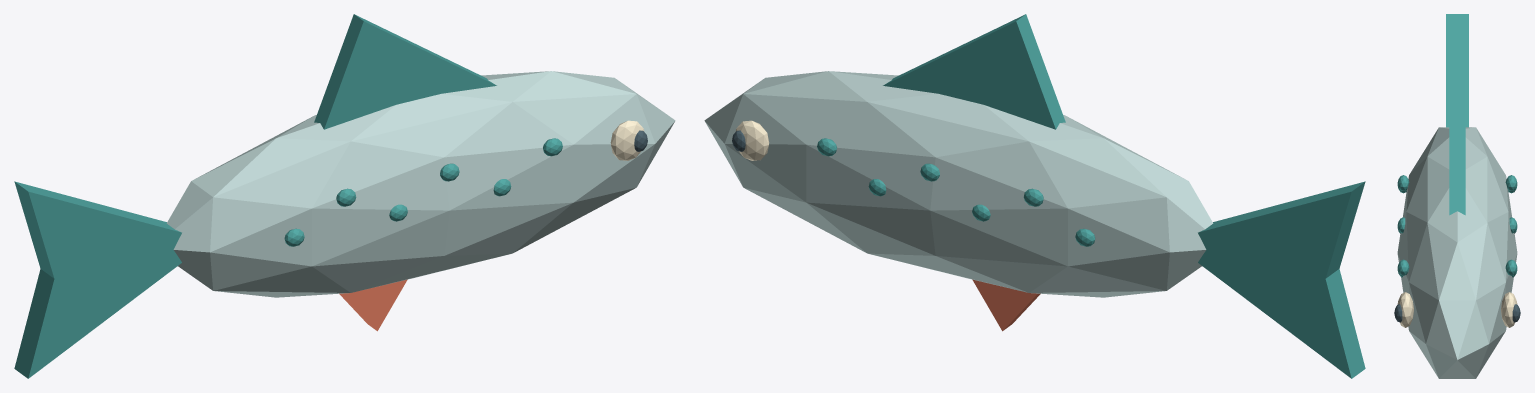
Rendered from trout_fish_quiet_lake_fishing_22414.glb.
The picture shows the model from 3 angles, left to right: view 1: azimuth 30°, elevation 25°; view 2: azimuth 150°, elevation 25°; view 3: azimuth 270°, elevation 25°; orthographic projection. The views are drawn at different scales.
Visible parts, largest first — view 1: silver, teal, coral, cream; view 2: silver, teal, coral, cream; view 3: silver, teal, cream, iron.
Boxes of the visible parts, x1=… form: silver: x1=166, y1=71, x2=675, y2=297; teal: x1=14, y1=14, x2=562, y2=378; coral: x1=339, y1=279, x2=407, y2=331; cream: x1=610, y1=120, x2=644, y2=160; silver: x1=704, y1=71, x2=1213, y2=297; teal: x1=817, y1=14, x2=1365, y2=378; coral: x1=972, y1=279, x2=1040, y2=331; cream: x1=735, y1=120, x2=769, y2=160; silver: x1=1397, y1=127, x2=1517, y2=378; teal: x1=1397, y1=14, x2=1517, y2=277; cream: x1=1397, y1=292, x2=1517, y2=327; iron: x1=1394, y1=304, x2=1520, y2=322.
Size of the model in its own units: 0.95 by 0.435 by 0.1896.
